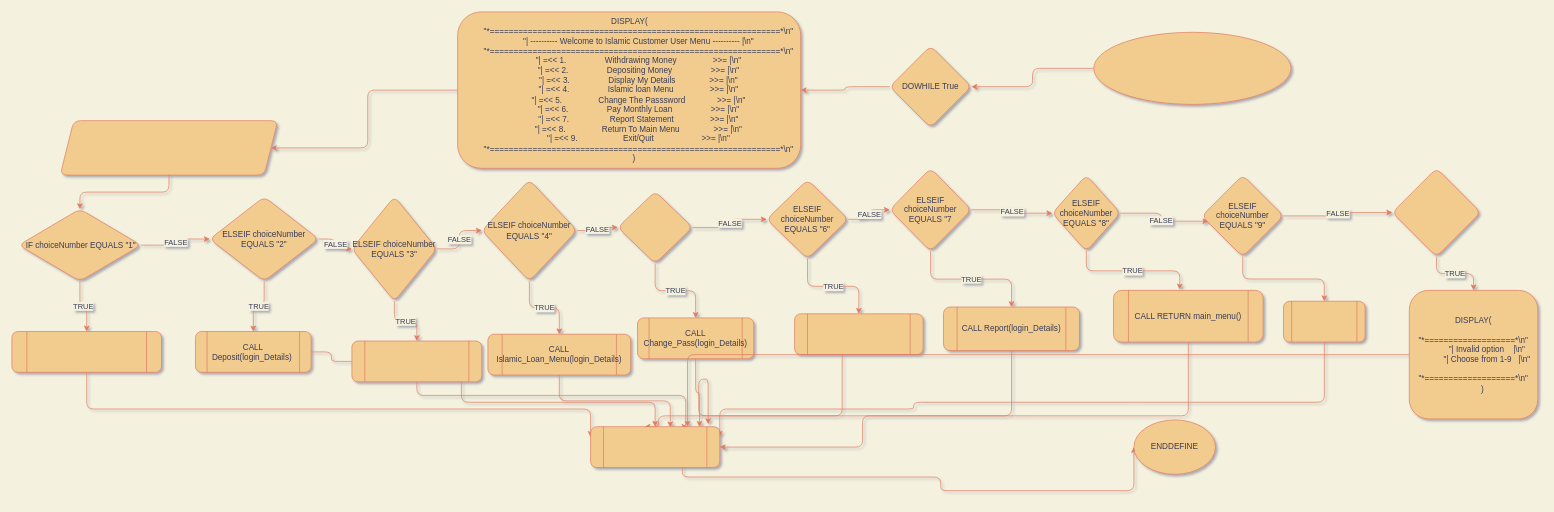
This 1554x512 diagram has some shape labels left out. The centre of each missing label's shape, as x and y in pixels:
ALL Display_Details(login_Details): (416,361)
CALL Cureent_Customer_Menu(): (655,447)
CALL exit(): (1324,321)
CALL pay_The_Loan(login_Details): (858,334)
CALL WithDrraw(login_Details): (86,351)
DEFINE Islamic_Customer_Menu(login_Details): (1192,68)
ELSE THEN: (1436,212)
ELSEIF choiceNumber EQUALS "5": (655,227)
SET choiceNumber TO GET("=<< Select Your Choice Number From The Above Menu; "): (169,147)
